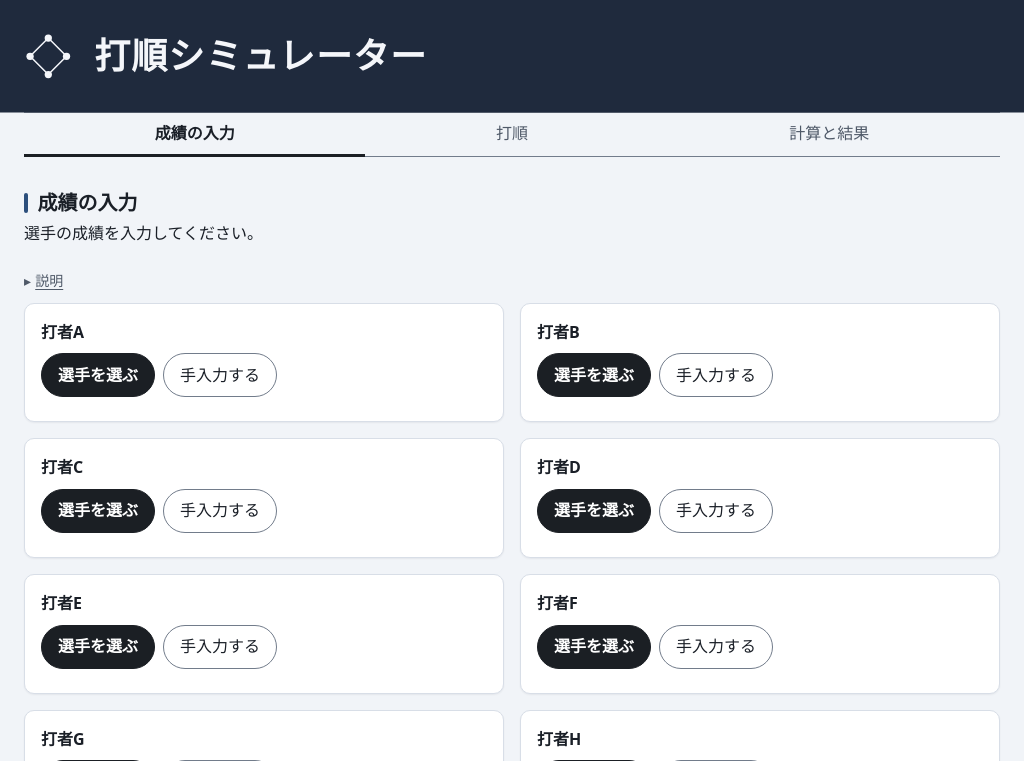
Test: プリセットの選択ダイアログ › 【B2 の回帰】球団を選んだあとも、Esc キーでダイアログが閉じる
This screenshot has width=1024, height=761.
Click the button with aria-label "打者Aの選手を選ぶ".
click(98, 375)  # box [41, 353, 155, 397]
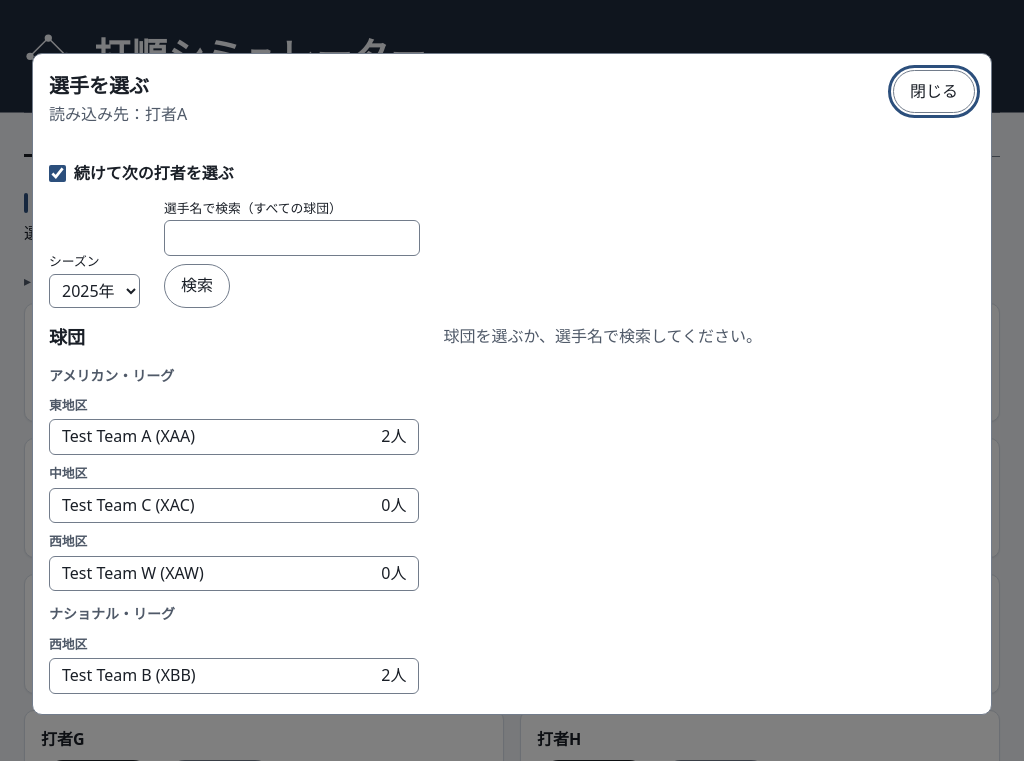
Click the button "Test Team A (XAA) 2人".
click(129, 436)  # box [49, 419, 419, 455]
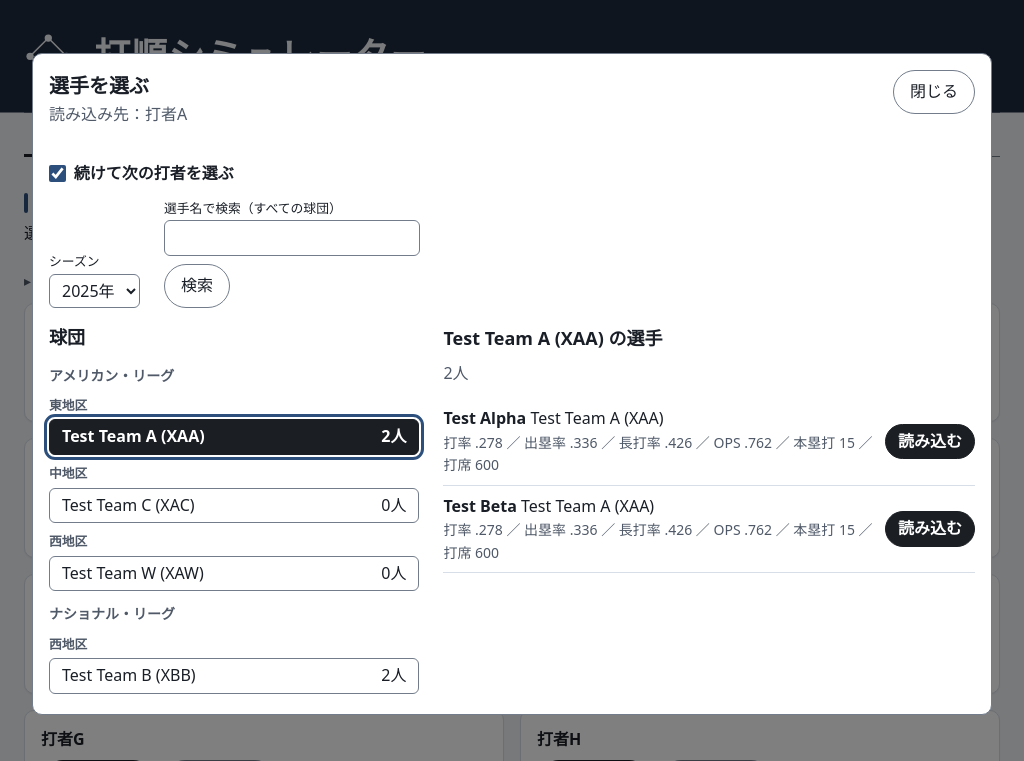
Press Escape in the button "Test Team A (XAA) 2人", box [49, 419, 419, 455]
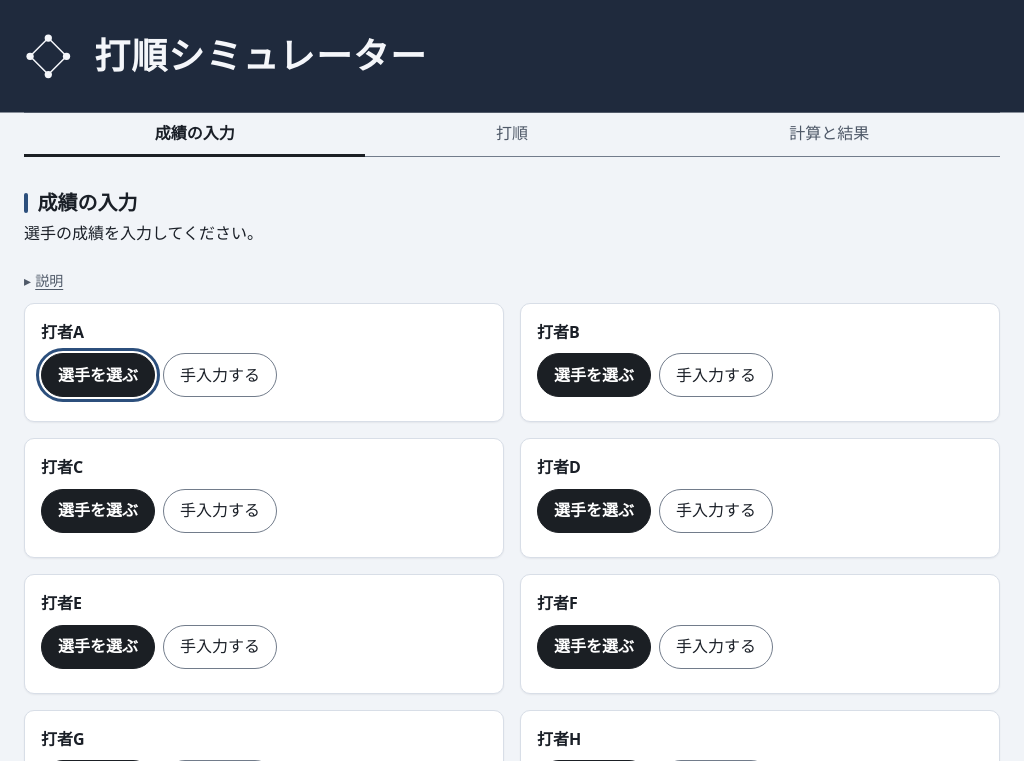
Expected: the button with aria-label "打者Aを手入力する" is shown, [163, 353, 277, 397]
Result: the dialog is gone
